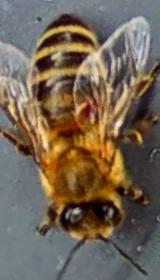varroa_mite: (66, 88, 110, 130)
